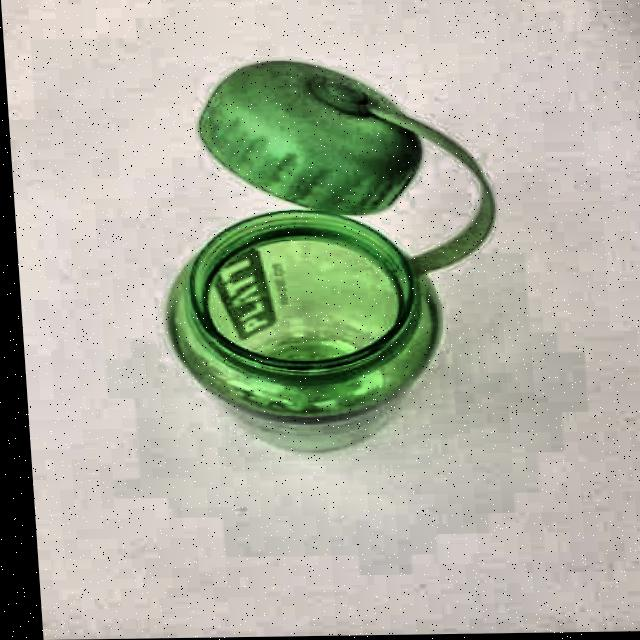plastic: (145, 54, 511, 461)
